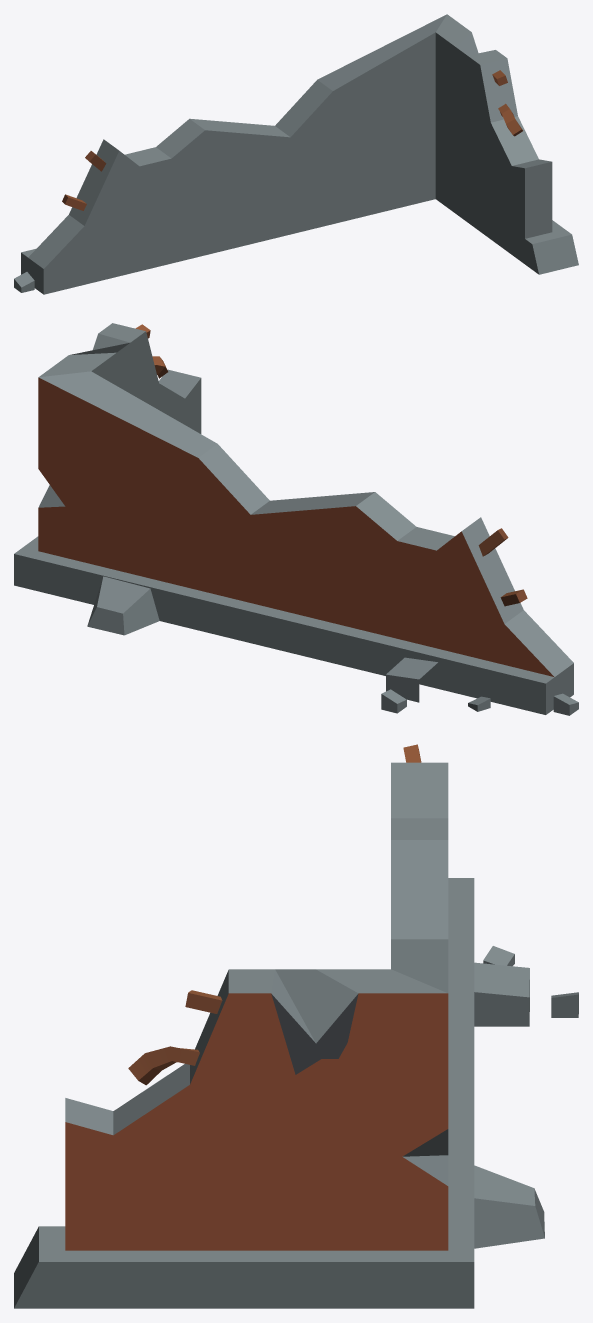
The model's file is BuildingRuin_03.fbx.
3 views of the same model, one above another, from view 1: azimuth 30°, elevation 25°; view 2: azimuth 150°, elevation 25°; view 3: azimuth 270°, elevation 25° (orthographic). The views are drawn at different scales.
Parts seen in each view (by area): view 1: BuildingRuin_03; view 2: BuildingRuin_03; view 3: BuildingRuin_03.
Boxes of the visible parts, left/top/right/bottom form: BuildingRuin_03: left=14, top=14, right=578, bottom=294; BuildingRuin_03: left=14, top=323, right=578, bottom=715; BuildingRuin_03: left=14, top=744, right=578, bottom=1308.
Size of the model in its own units: 5.44 by 3.28 by 1.97.
